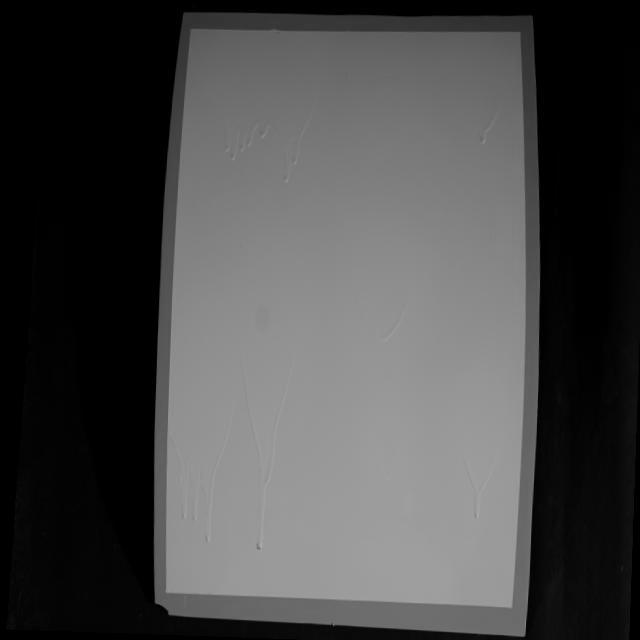paint drips: (166, 349, 294, 554), (218, 91, 318, 192), (453, 442, 500, 528), (472, 94, 504, 156), (374, 298, 408, 352), (372, 462, 394, 486)
